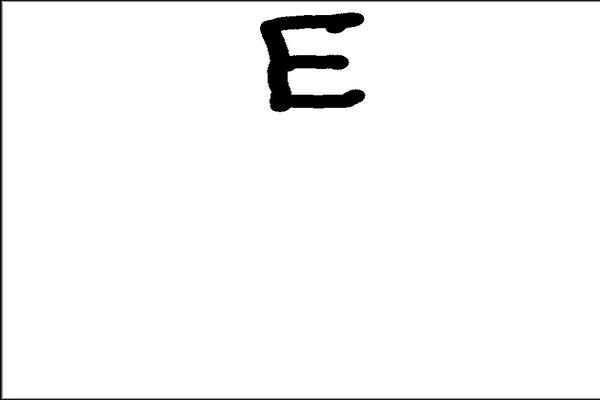E: (256, 7, 372, 113)
